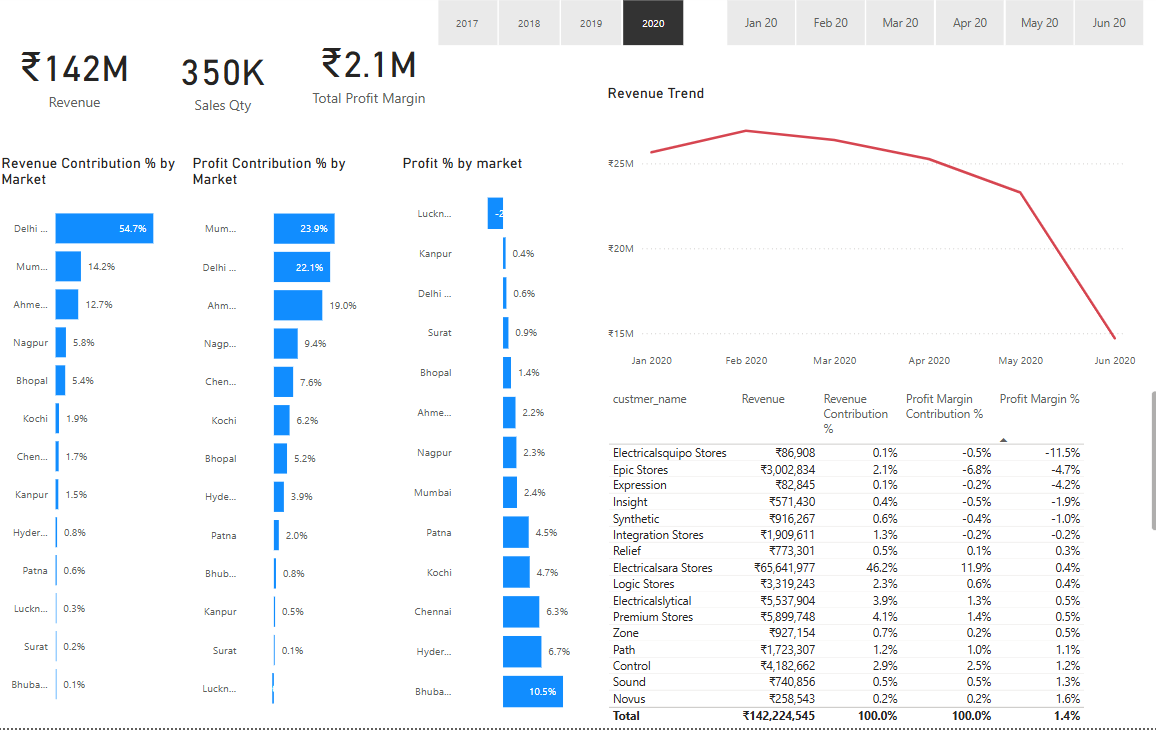

This screenshot's page, from the dashboard's own definition file:
{"tool":"powerbi","page":{"name":"Profit Analysis","canvas":[1350,850],"ordinal":1},"visuals":[{"type":"card","fields":{"Values":["BaseMeasures (2).Revenue"]},"box":[0,0,179.6,184.8],"z":0},{"type":"card","fields":{"Values":["BaseMeasures (2).Sales Qty"]},"box":[179.6,0,164.1,193],"z":1000},{"type":"barChart","title":"Profit % by market","fields":{"Y":["BaseMeasures (2).Profit Margin %"],"Category":["sales markets.markets_name"]},"box":[464.5,184.8,230.2,664.8],"z":2000},{"type":"barChart","title":"Profit Contribution % by Market","fields":{"Y":["BaseMeasures (2).Profit Margin Contribution %"],"Category":["sales markets.markets_name"]},"box":[221.9,185.8,208.5,659.6],"z":3000},{"type":"slicer","fields":{"Values":["sales date.year"]},"box":[483.2,0,335.5,66.5],"z":4000},{"type":"slicer","fields":{"Values":["sales date.cy_date"]},"box":[818.6,0,531.7,66.5],"z":5000},{"type":"tableEx","title":"Top 5 Customers","fields":{"Values":["sales customers.custmer_name","BaseMeasures (2).Revenue","BaseMeasures (2).Revenue Contribution %","BaseMeasures (2).Profit Margin Contribution %","BaseMeasures (2).Profit Margin %"]},"box":[701.9,454.2,648.3,395.4],"z":6000},{"type":"lineChart","title":"Revenue Trend","fields":{"Y":["BaseMeasures (2).Revenue"],"Category":["sales date.cy_date"]},"box":[701.9,104.3,621.4,338.6],"z":7000},{"type":"card","fields":{"Values":["BaseMeasures (2).Total Profit Margin"]},"box":[349.9,0,161,176.5],"z":8000},{"type":"barChart","title":"Revenue Contribution % by Market","fields":{"Y":["BaseMeasures (2).Revenue Contribution %"],"Category":["sales markets.markets_name"]},"box":[0,185.8,219.9,654.5],"z":9000}]}

Visuals, with their boxes in screenshot pixels (x1, y1, x2, y2), scaled from the page's 1350x850 canvas onto the 1156x738 screenshot:
card - BaseMeasures (2).Revenue: bbox=[0, 0, 154, 160]
card - BaseMeasures (2).Sales Qty: bbox=[154, 0, 294, 168]
"Profit % by market" barChart: bbox=[398, 160, 595, 737]
"Profit Contribution % by Market" barChart: bbox=[190, 161, 369, 734]
slicer - sales date.year: bbox=[414, 0, 701, 58]
slicer - sales date.cy_date: bbox=[701, 0, 1155, 58]
"Top 5 Customers" tableEx: bbox=[601, 394, 1155, 737]
"Revenue Trend" lineChart: bbox=[601, 91, 1133, 385]
card - BaseMeasures (2).Total Profit Margin: bbox=[300, 0, 437, 153]
"Revenue Contribution % by Market" barChart: bbox=[0, 161, 188, 730]
